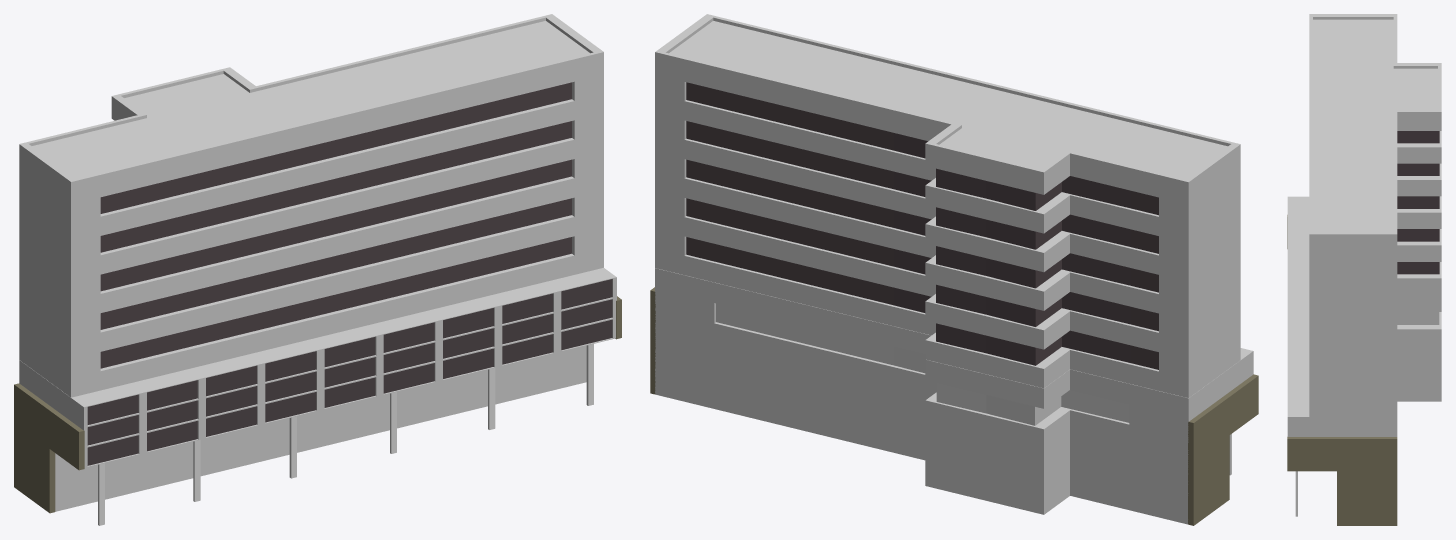
File: Building5th.glb
The picture shows the model from 3 angles, left to right: view 1: azimuth 30°, elevation 25°; view 2: azimuth 150°, elevation 25°; view 3: azimuth 270°, elevation 25°; orthographic projection. The views are drawn at different scales.
Visible parts, largest first — view 1: Cube.093, Cube.096, Cube.097, Cube.095; view 2: Cube.093, Cube.096, Cube.095; view 3: Cube.093, Cube.095, Cube.096.
Part boxes in pixels (x1,y1,x2,y2): Cube.093: (19, 14, 616, 511); Cube.096: (100, 82, 571, 368); Cube.097: (87, 279, 612, 465); Cube.095: (14, 296, 621, 513); Cube.093: (655, 14, 1253, 524); Cube.096: (686, 82, 1158, 369); Cube.095: (650, 287, 1258, 525); Cube.093: (1287, 14, 1441, 436); Cube.095: (1287, 215, 1397, 525); Cube.096: (1397, 131, 1439, 274).
Bounding box in the file's own units: 7.4 × 4.46 × 2.15.
